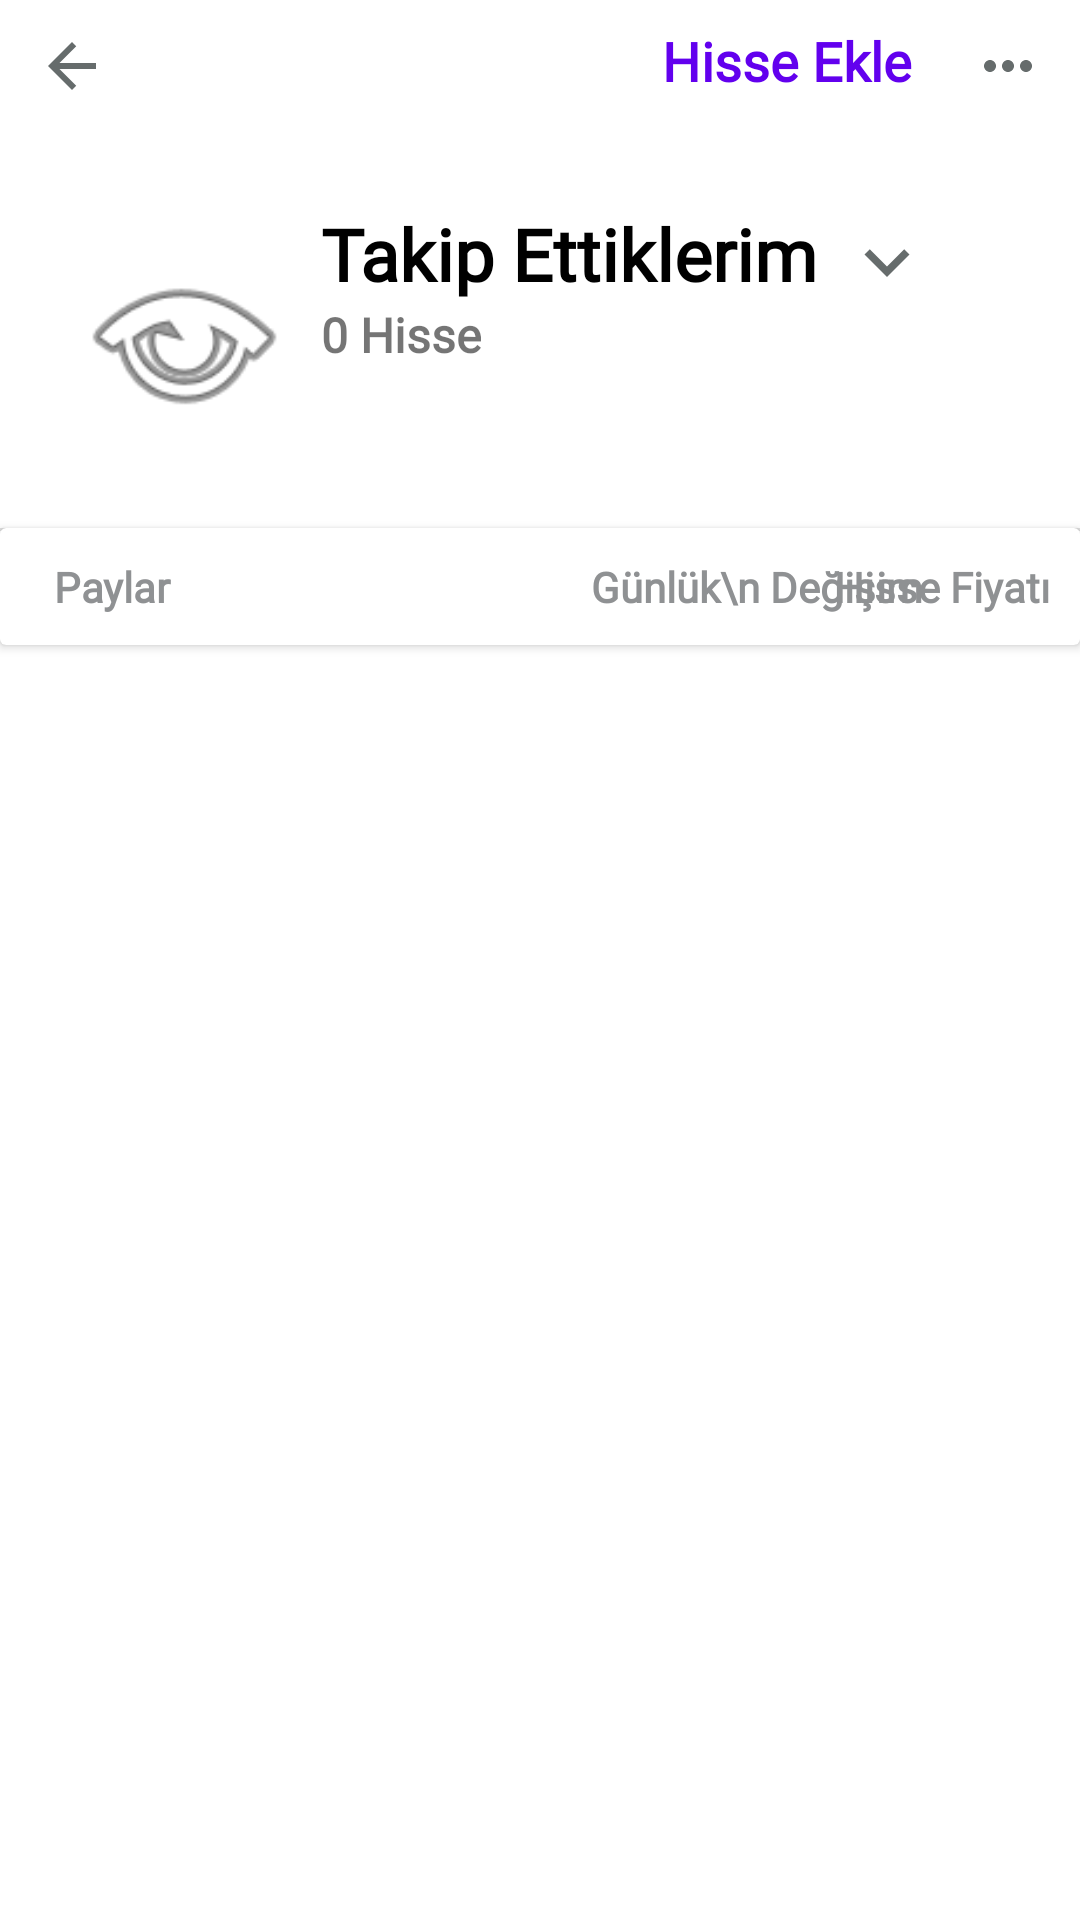

Named icons in this screenshot (1080px x 1920px) and their bounding boxes, (x1, y1, x2, y2):
back: (48, 42, 96, 90)
under arrow: (864, 249, 910, 277)
view: (93, 288, 276, 404)
